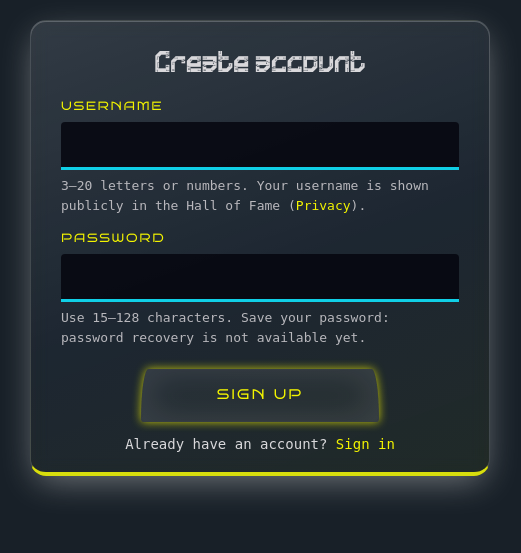
it: account forms › blocks duplicate submissions while stretching and recovers after a network failure
Expected: the button "Sign up" is enabled, [141,369,379,422]
Type "Player" into the field labelled "Username".
click(260, 146); type("Player")  # box [61,122,459,170]
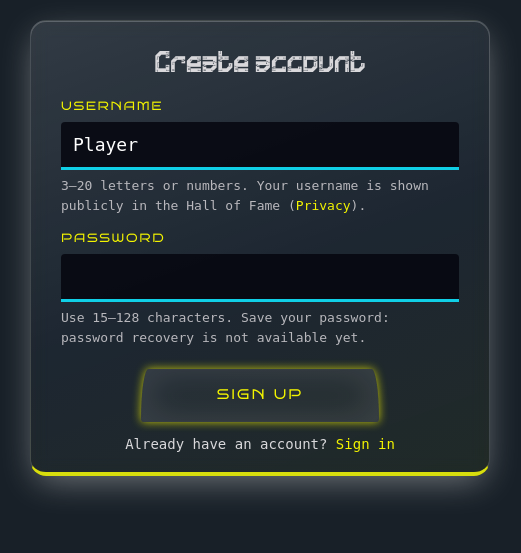
Type "A test passphrase long enough" into the password field labelled "Password".
click(260, 278); type("A test passphrase long enough")  # box [61,254,459,302]
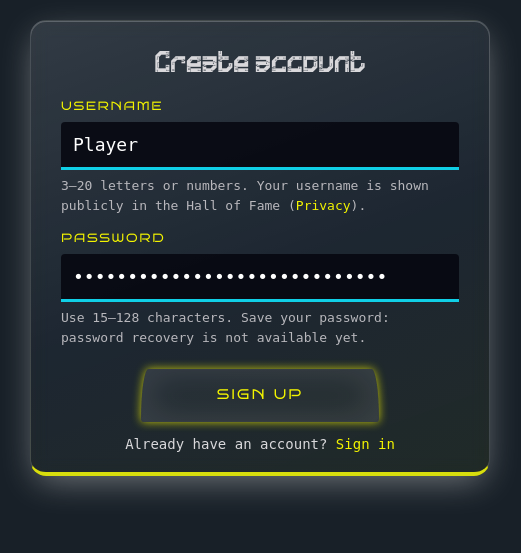
Submit the form named "Sign up", box [61,47,459,452]
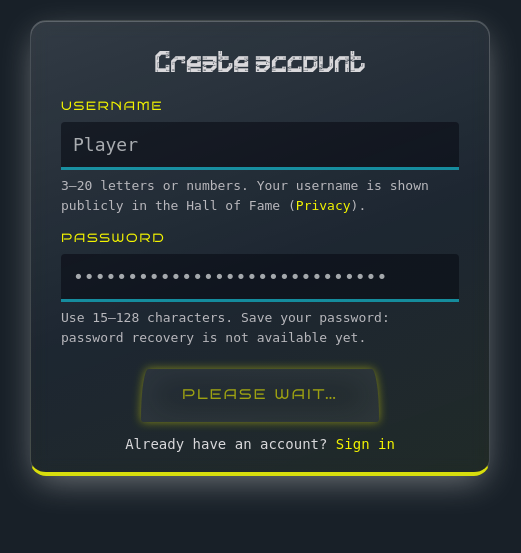
Submit the form named "Sign up", box [61,47,459,452]
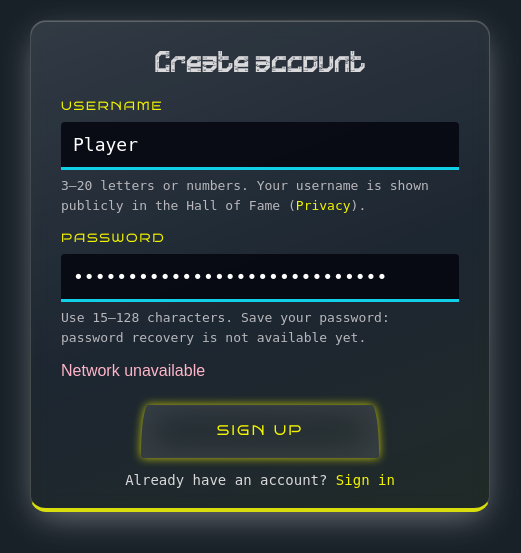
Expected: the message reads "Network unavailable", [61,362,205,379]
Expected: the button "Sign up" is enabled, [141,405,379,458]
